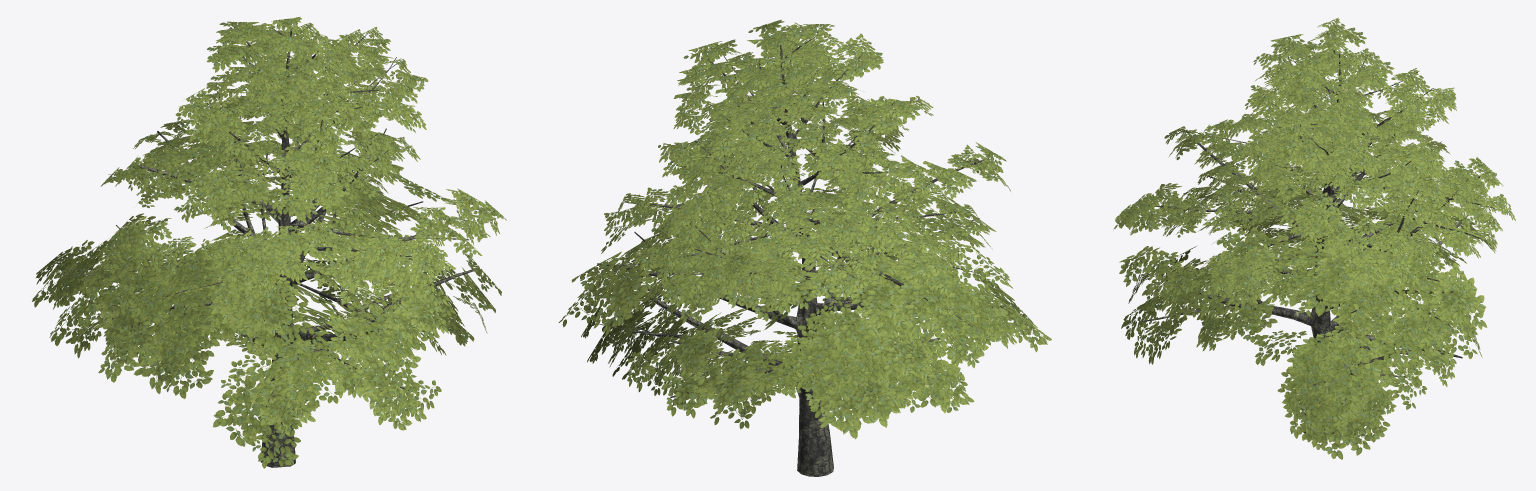
Rendered from Tree_08_Re.fbx.
3 renders of one model, left to right at view 1: azimuth 30°, elevation 25°; view 2: azimuth 150°, elevation 25°; view 3: azimuth 270°, elevation 25°, orthographic. The views are drawn at different scales.
Visible parts, largest first — view 1: Tree_8_Leaf, Tree_8_Trunk; view 2: Tree_8_Leaf, Tree_8_Trunk; view 3: Tree_8_Leaf, Tree_8_Trunk.
Part boxes in pixels (x1=…): Tree_8_Leaf: x1=32, y1=16, x2=506, y2=468; Tree_8_Trunk: x1=50, y1=26, x2=478, y2=467; Tree_8_Leaf: x1=558, y1=19, x2=1051, y2=439; Tree_8_Trunk: x1=591, y1=31, x2=1002, y2=476; Tree_8_Leaf: x1=1113, y1=17, x2=1515, y2=459; Tree_8_Trunk: x1=1137, y1=30, x2=1507, y2=434.
Bounding box in the file's own units: 1000 × 977 × 931.
2 materials, 2 textured.
